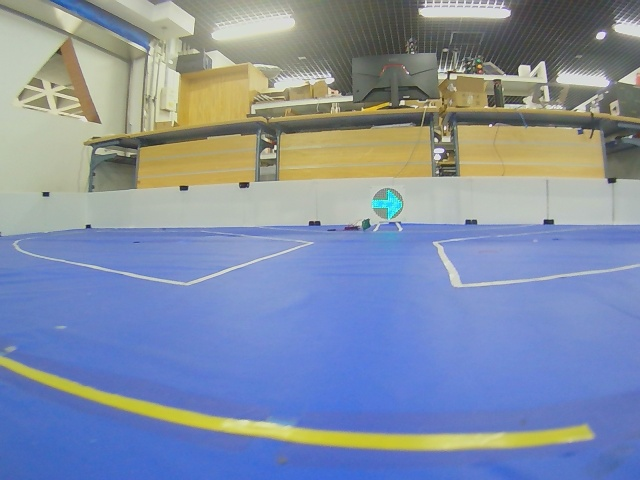right_green: (368, 187, 402, 220)
